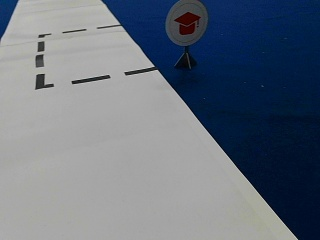school: (165, 1, 209, 45)
